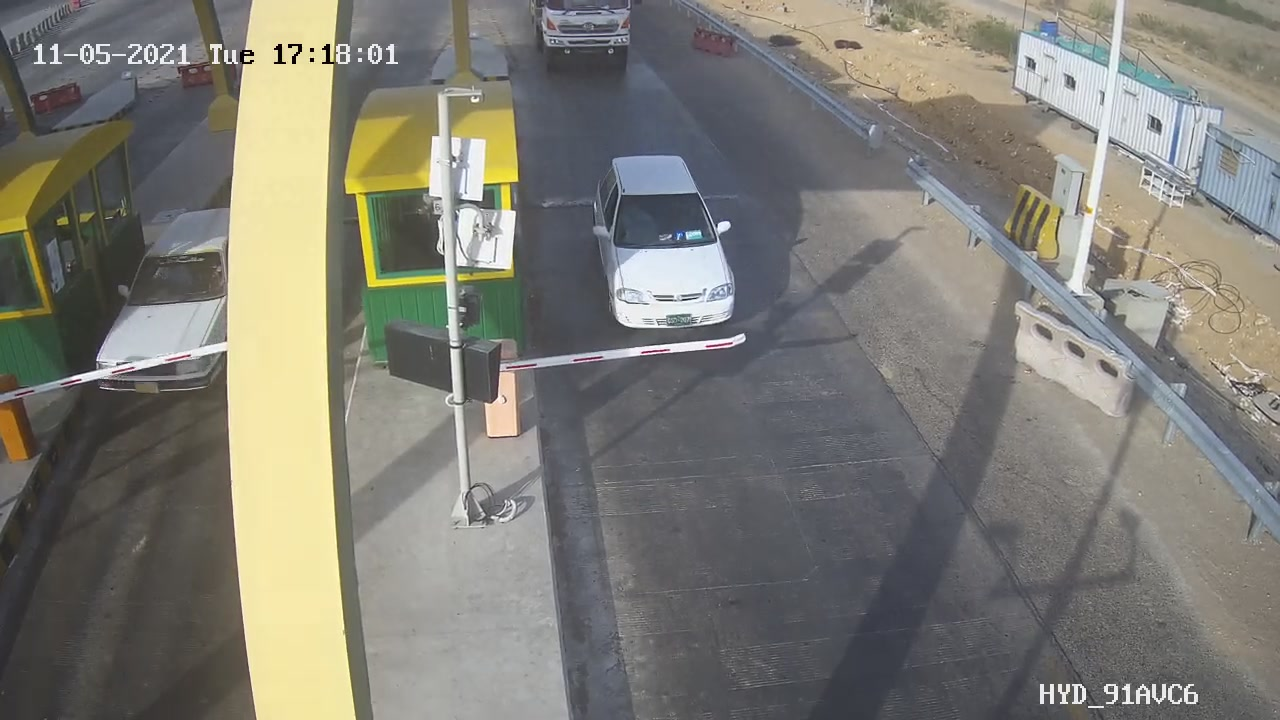F1: (573, 140, 761, 349)
